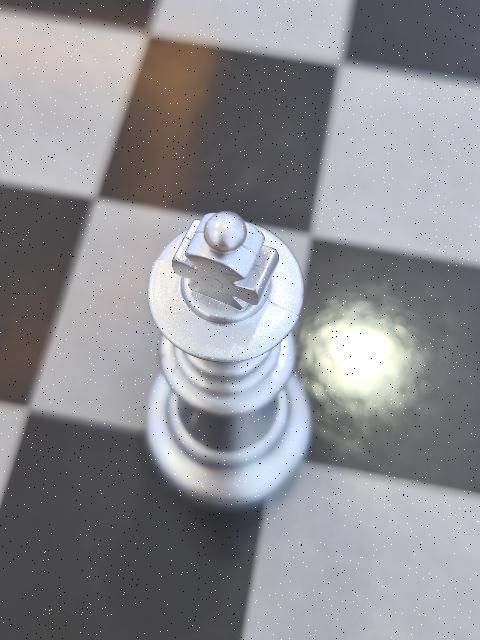white_king: (143, 212, 308, 515)
